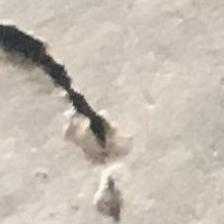Crack: (0, 23, 163, 224)
